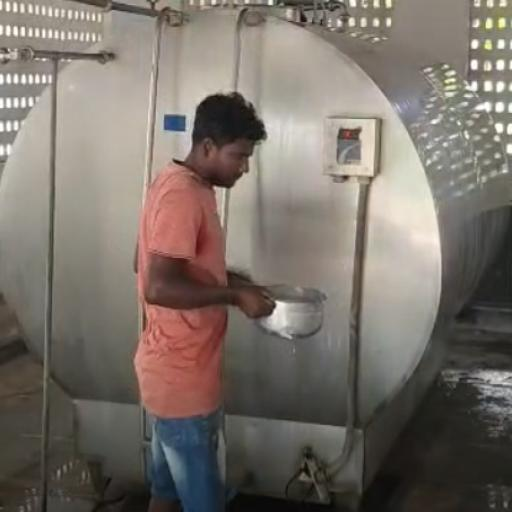silo: (0, 1, 511, 499)
vessel: (255, 285, 326, 339)
